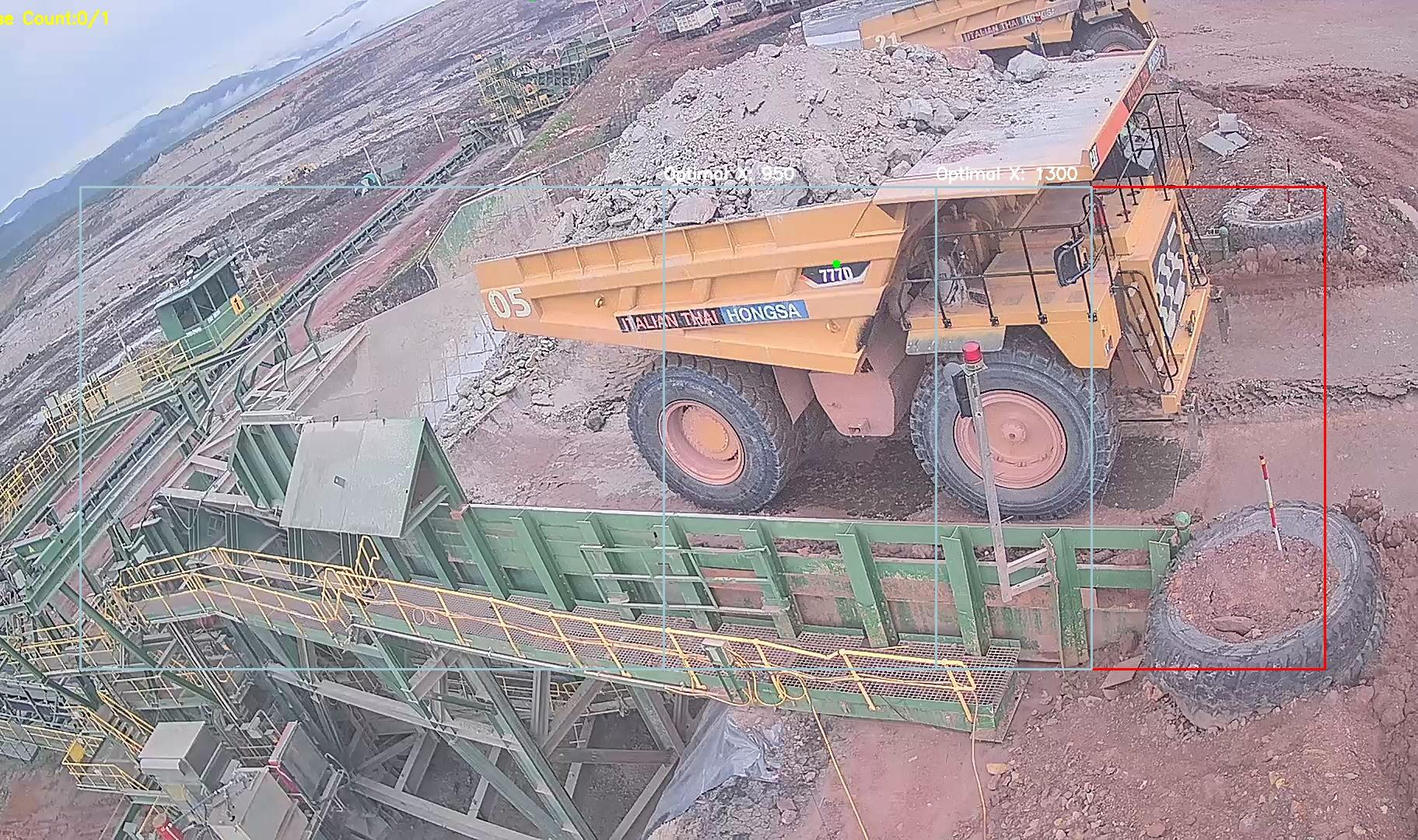company: (606, 297, 831, 334)
full_load: (622, 33, 937, 222)
mining_truck: (469, 20, 1235, 510)
tail_number: (478, 273, 538, 333)
truck_size: (788, 254, 869, 288)
